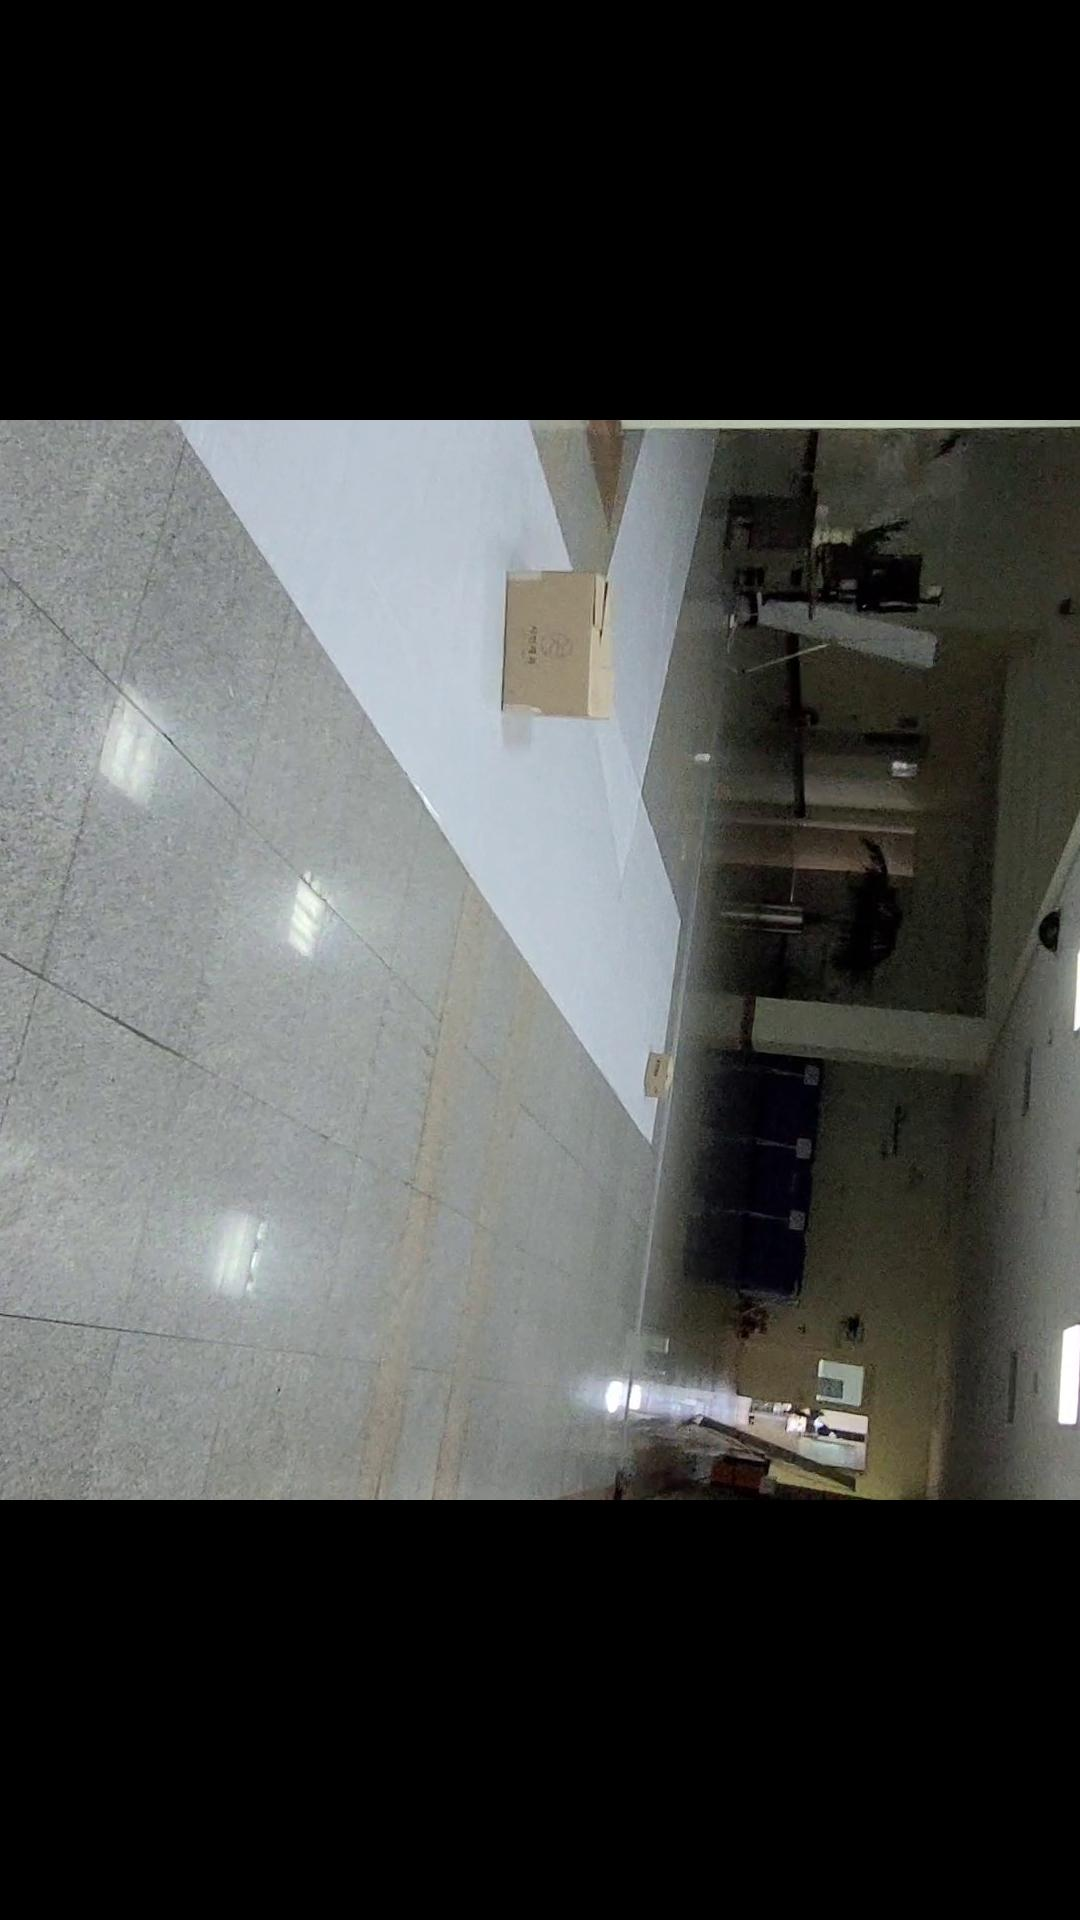Box: (475, 556, 625, 781), (620, 1036, 687, 1142)
